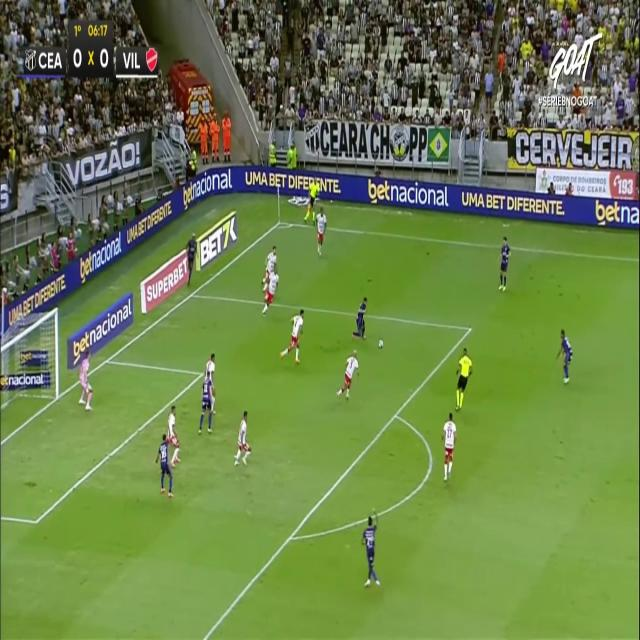ball: (378, 339, 383, 348)
goalkeeper: (78, 346, 93, 410)
player: (279, 307, 304, 363), (361, 514, 380, 586), (336, 348, 360, 400), (155, 432, 174, 497), (198, 371, 215, 434), (233, 410, 251, 466), (442, 411, 456, 481), (556, 328, 572, 383), (167, 404, 180, 466), (262, 266, 278, 314), (351, 296, 367, 340), (498, 236, 510, 290), (315, 204, 327, 256), (186, 232, 197, 285)
referee: (454, 346, 472, 410), (303, 177, 319, 226)
